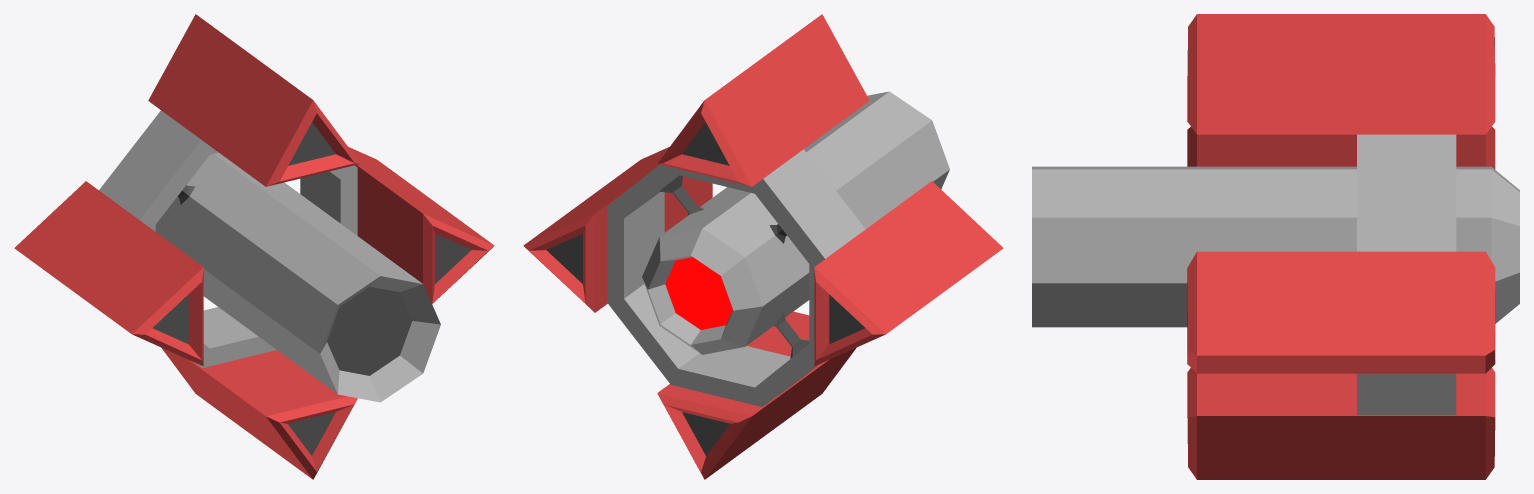
The model's file is EnemyShip.fbx.
3 renders of one model, left to right at view 1: azimuth 30°, elevation 25°; view 2: azimuth 150°, elevation 25°; view 3: azimuth 270°, elevation 25°, orthographic. The views are drawn at different scales.
Parts seen in each view (by area): view 1: EnemyShip_Body, Engine4, Engine1, Ring, Engine2, Engine3; view 2: EnemyShip_Body, Ring, Engine4, Engine1, Engine2, Engine3, EngineMounts; view 3: EnemyShip_Body, Engine3, Engine4, Engine2, Ring, Engine1.
Boxes of the visible parts, x1,y1,x2,y2 form: EnemyShip_Body: [155, 152, 440, 402]; Engine4: [148, 14, 360, 186]; Engine1: [14, 181, 203, 366]; Ring: [99, 110, 357, 367]; Engine2: [161, 347, 357, 479]; Engine3: [348, 147, 494, 303]; EnemyShip_Body: [642, 91, 949, 354]; Ring: [607, 149, 865, 406]; Engine4: [657, 14, 869, 186]; Engine1: [814, 181, 1003, 366]; Engine2: [657, 311, 856, 479]; Engine3: [523, 147, 712, 312]; EngineMounts: [659, 175, 809, 358]; EnemyShip_Body: [1032, 166, 1519, 327]; Engine3: [1187, 251, 1495, 373]; Engine4: [1187, 14, 1495, 134]; Engine2: [1187, 368, 1495, 479]; Ring: [1357, 134, 1456, 414]; Engine1: [1187, 127, 1495, 169].
Bounding box in the file's own units: 5.62 × 5.62 × 5.34.
